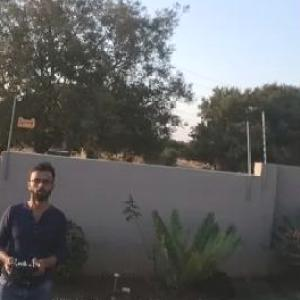follow: (0, 158, 73, 299)
